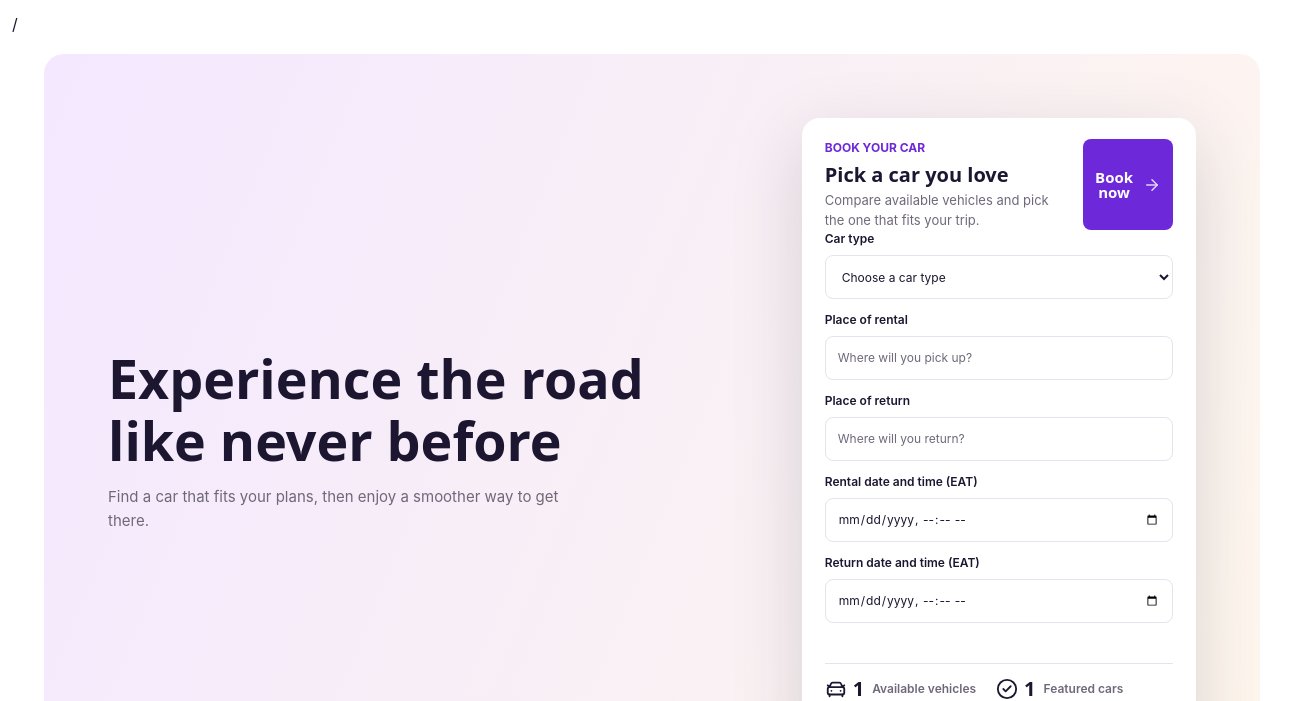
Scenario: home page booking form › rejects rental times in the past
This screenshot has width=1292, height=701.
Step 1. Select "SUV" in the dropdown labelled "Car type" → coordinates (999, 277), box [825,255,1173,299]
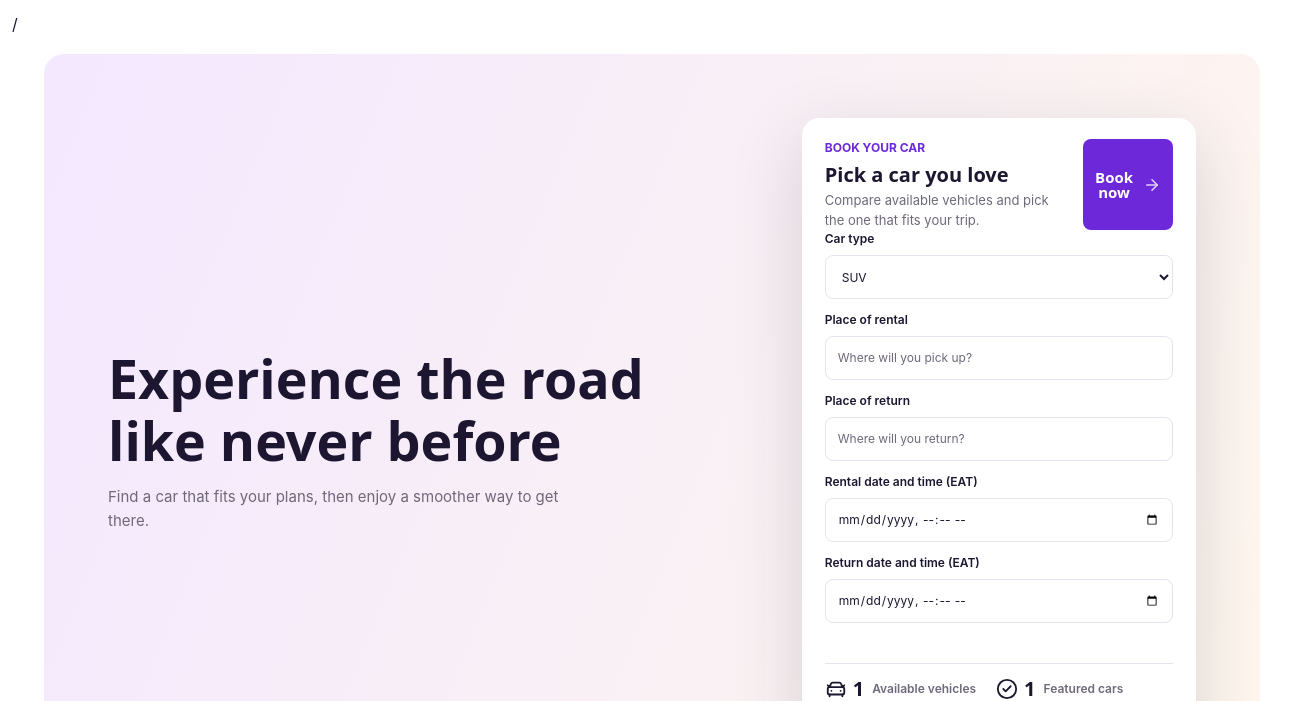
Step 2. Type "Nairobi CBD" into the field labelled "Place of rental" → coordinates (999, 358), box [825,336,1173,380]
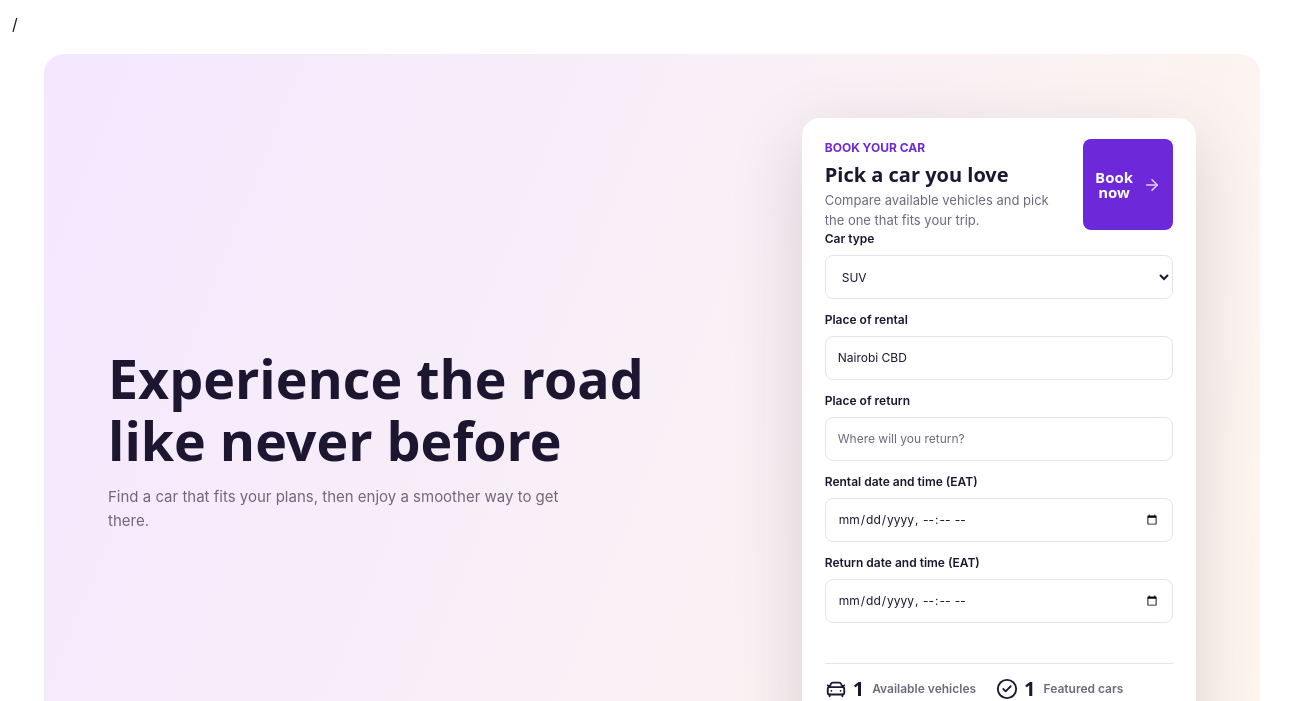
Step 3. Type "Westlands" into the field labelled "Place of return" → coordinates (999, 439), box [825,417,1173,461]
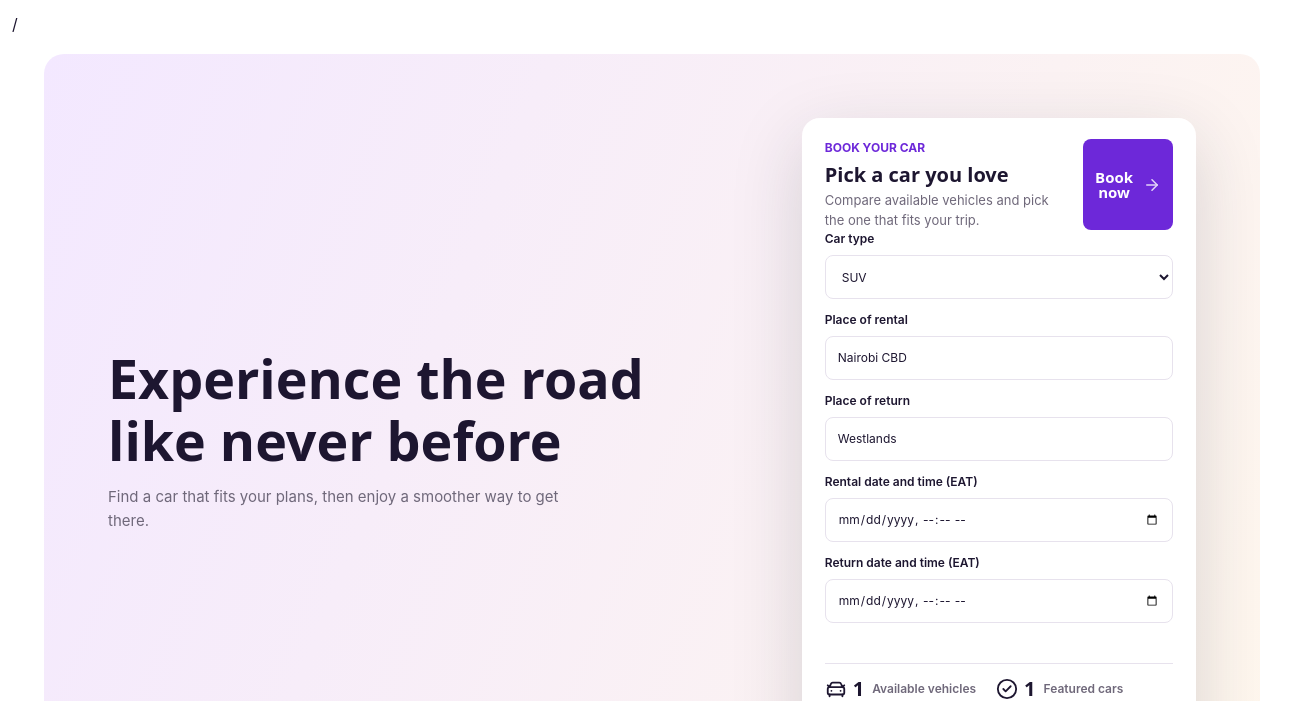
Step 4. Type "2020-01-02T10:30" into the field labelled "Rental date and time (EAT)" → coordinates (999, 520), box [825,498,1173,542]
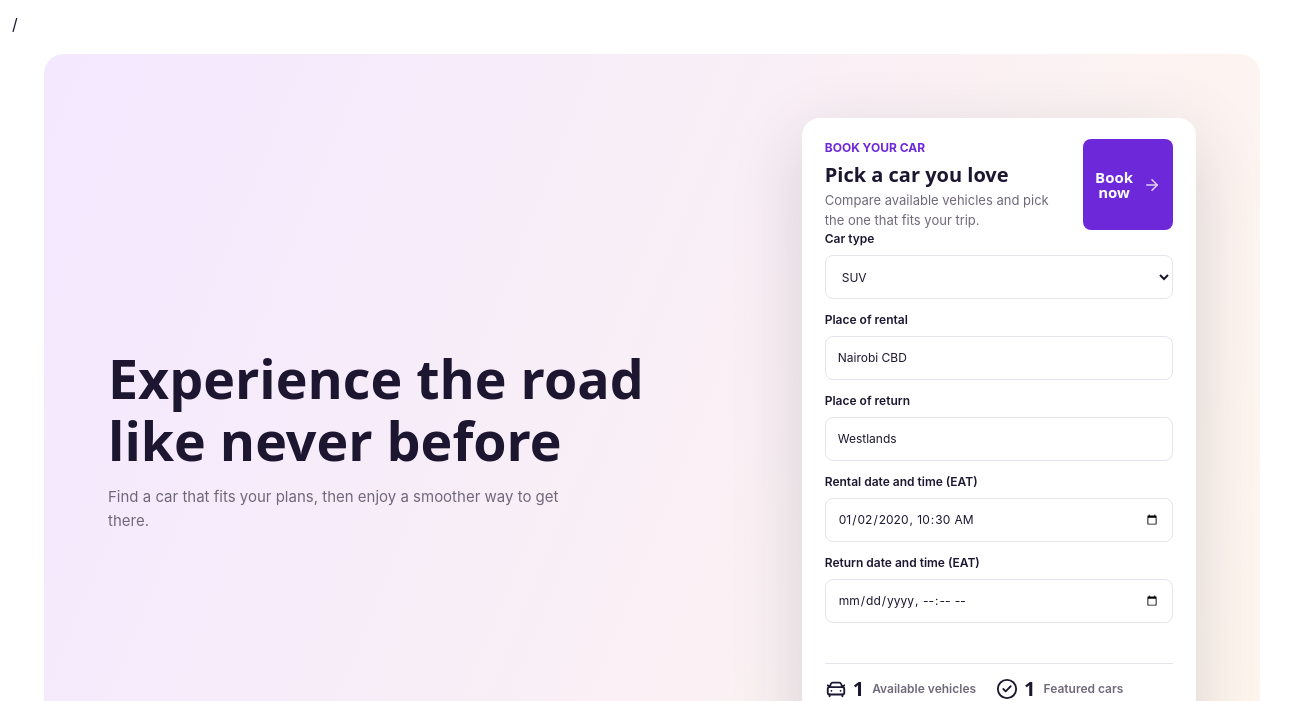
Step 5. Type "2020-01-05T10:30" into the field labelled "Return date and time (EAT)" → coordinates (999, 601), box [825,579,1173,623]
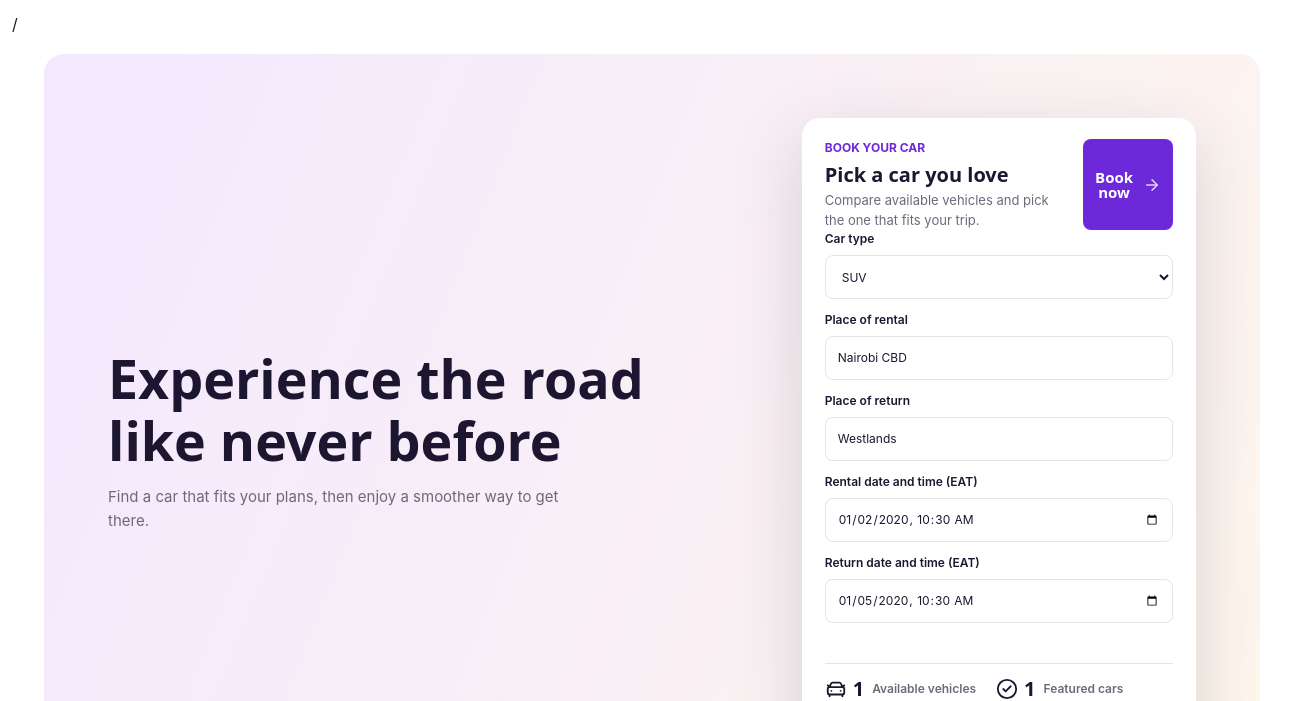
Step 6. Click the button "Book now" → coordinates (1128, 184), box [1083,139,1173,230]
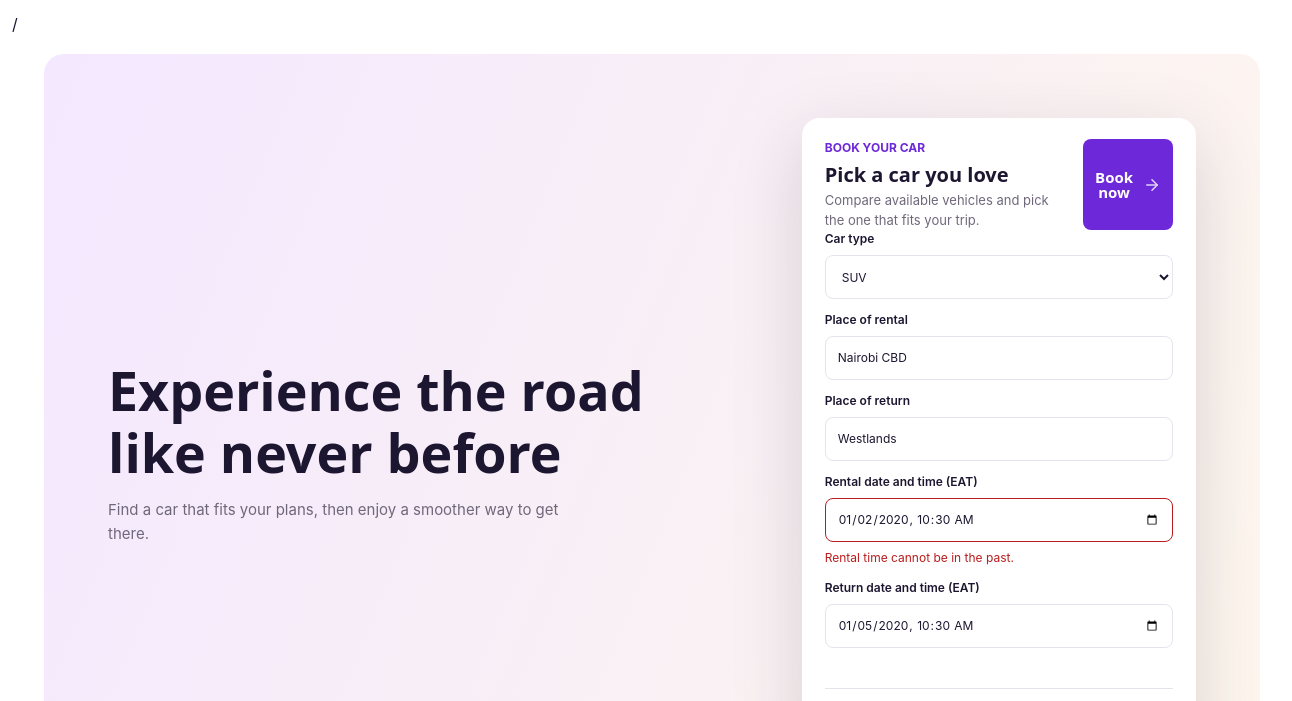
Expected: the text named "Current location" reads "/", [12,14,18,34]
Result: the text "Rental time cannot be in the past." is shown at [825,550,1014,565]
